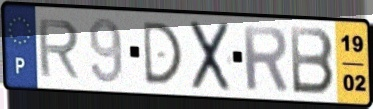9: (87, 16, 125, 86)
B: (288, 24, 337, 98)
D: (140, 20, 185, 87)
R: (240, 23, 291, 93), (35, 18, 82, 81)
X: (189, 18, 233, 93)
